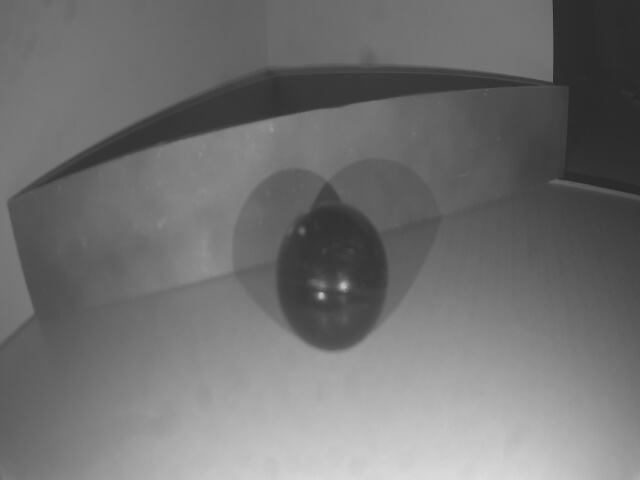Dead: (276, 204, 386, 354)
Green: (8, 83, 571, 325)
